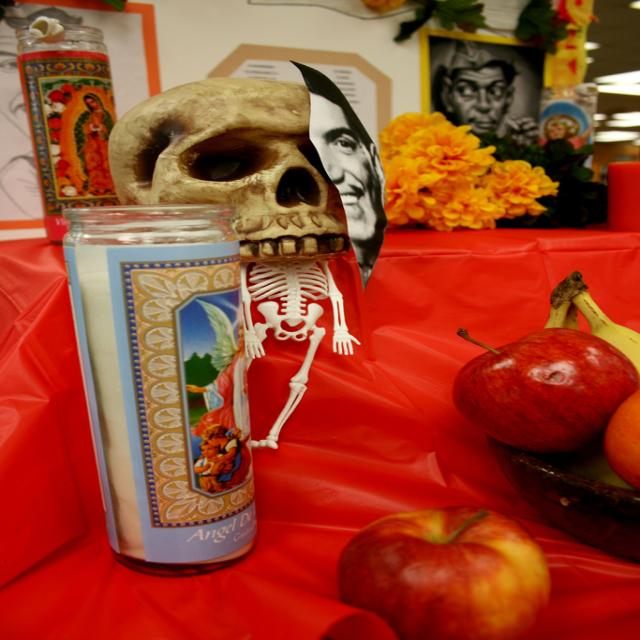Healty Apple: (330, 512, 561, 639), (449, 326, 639, 456)
